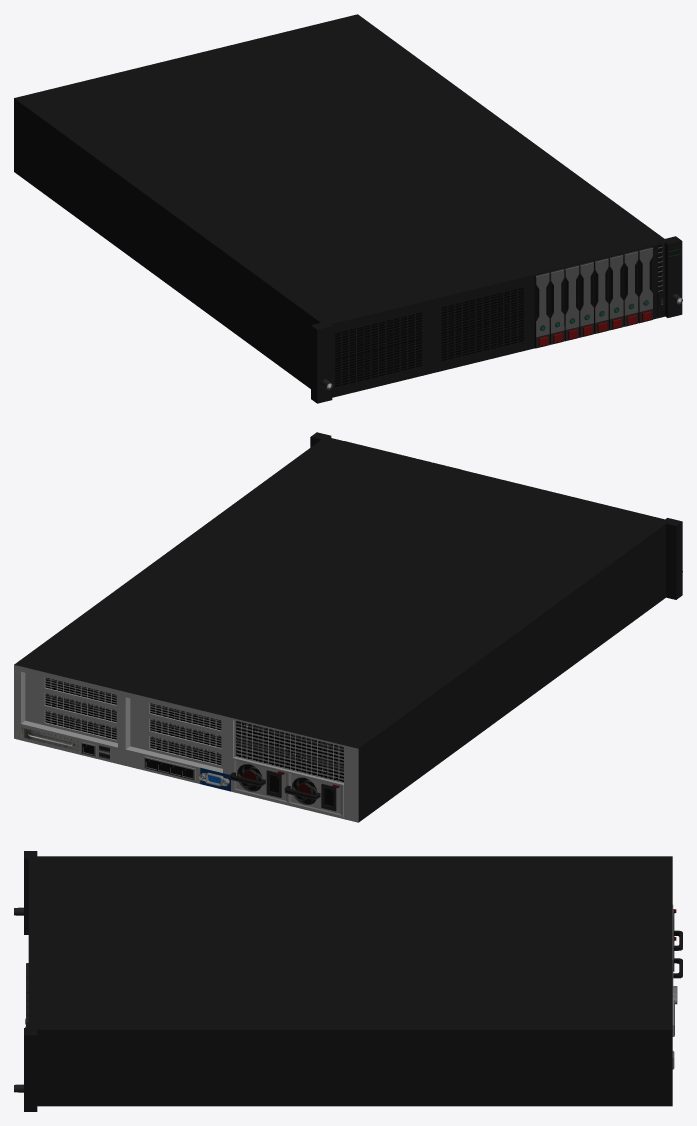
The picture shows the model from 3 angles, top to bottom: view 1: azimuth 30°, elevation 25°; view 2: azimuth 150°, elevation 25°; view 3: azimuth 270°, elevation 25°; orthographic projection. The views are drawn at different scales.
Visible parts, largest first — view 1: HPE_DL380_G10; view 2: HPE_DL380_G10; view 3: HPE_DL380_G10.
Part boxes in pixels (<box>): HPE_DL380_G10: <box>14,14,682,403</box>; HPE_DL380_G10: <box>14,432,682,822</box>; HPE_DL380_G10: <box>14,851,682,1111</box>.
Bounding box in the file's own units: 461 × 89 × 707.
Materials: 22 (3 with a texture image).
